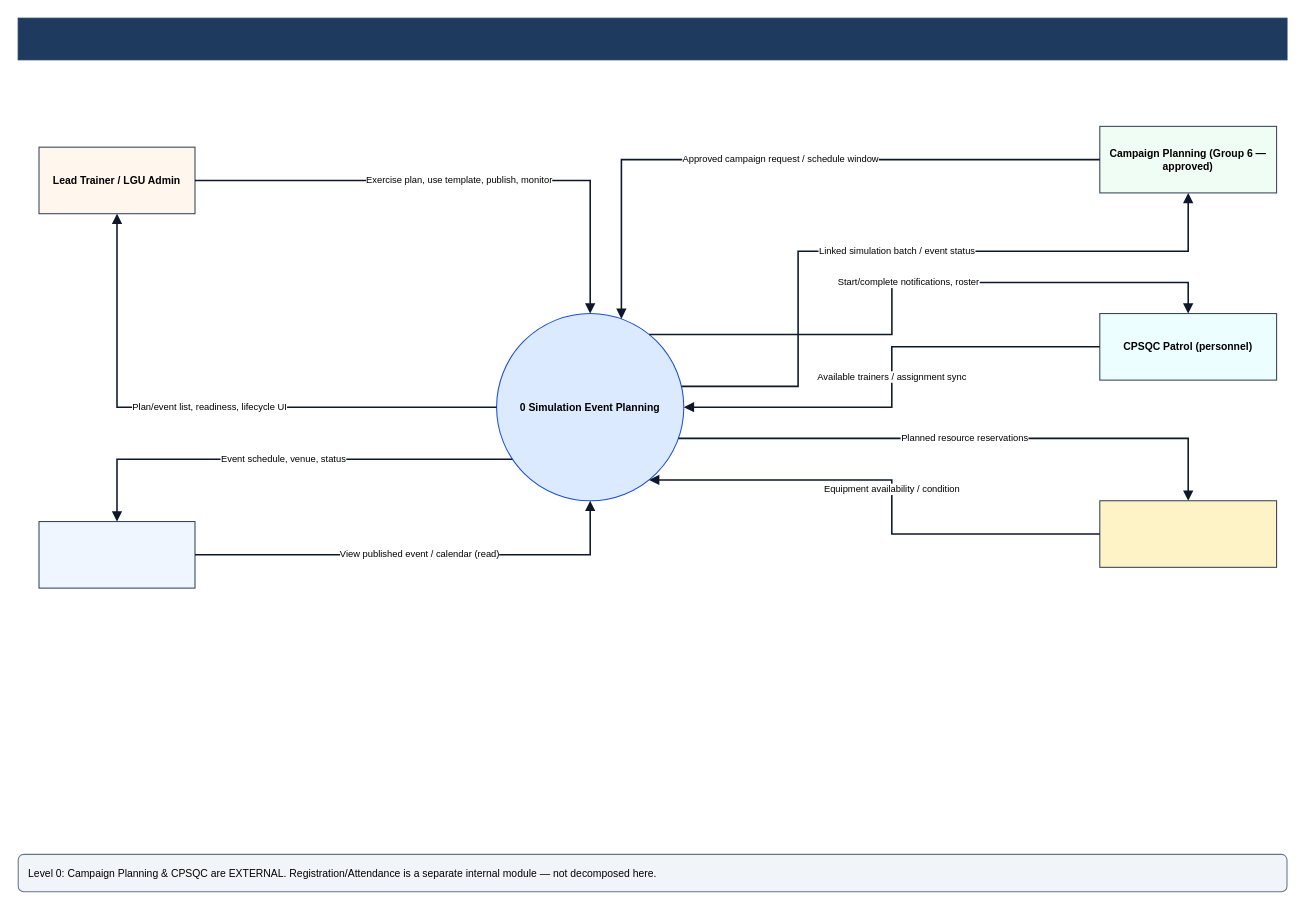
This 1305x910 diagram has some shape labels left out. Here are the shapes that lost their labels. From the top down, the box of each, then its label:
(17, 17, 1287, 60): DFD Level 0 — Simulation Event Planning (Context)
(1099, 500, 1277, 567): Resource & Equipment Inventory
(38, 521, 195, 588): Participant
